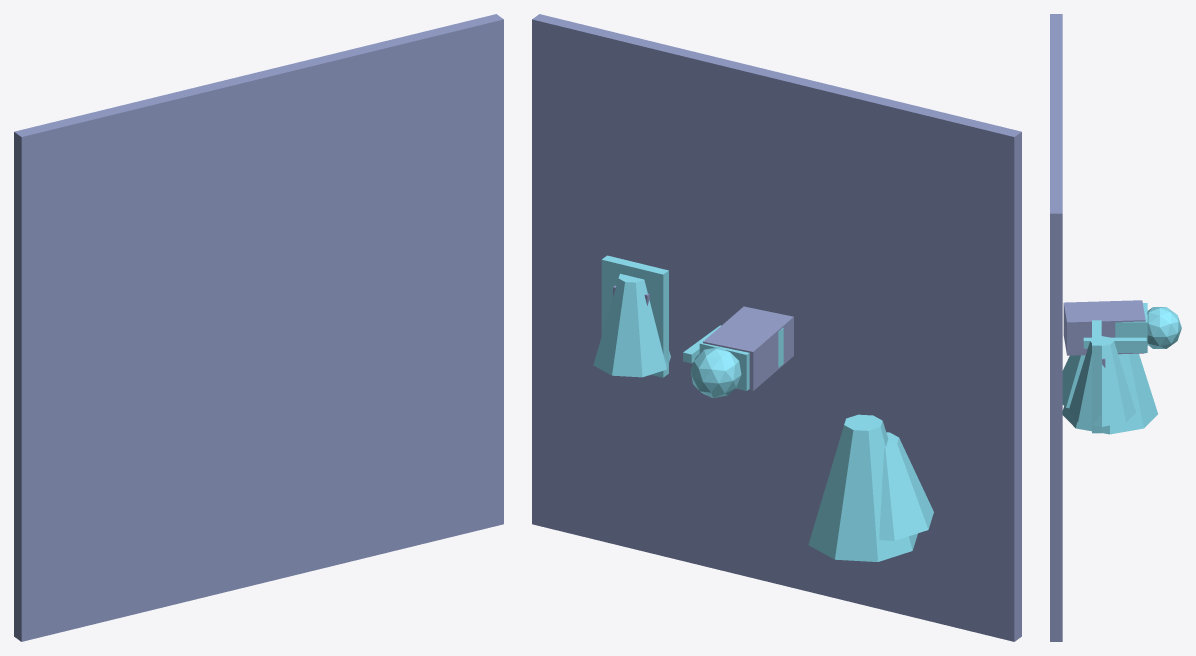
File: shadow-protocol-kit.glb
3 renders of one model, left to right at view 1: azimuth 30°, elevation 25°; view 2: azimuth 150°, elevation 25°; view 3: azimuth 270°, elevation 25°, orthographic. The views are drawn at different scales.
Visible parts, largest first — view 1: ENVIRONMENT_GROUND; view 2: ENVIRONMENT_GROUND, PROFILE_ENVIRONMENT_DETAIL, OBSTACLE, PLAYER_BODY, ENVIRONMENT_LANDMARK, PROFILE_OBSTACLE_DETAIL, PLAYER_HEAD, PROFILE_PLAYER_DETAIL; view 3: ENVIRONMENT_GROUND, OBSTACLE, PLAYER_BODY, PROFILE_ENVIRONMENT_DETAIL, PLAYER_HEAD, PROFILE_OBSTACLE_DETAIL, PROFILE_PLAYER_DETAIL, ENVIRONMENT_LANDMARK, PLAYER_TOOL.
Boxes of the visible parts, box(x1,y1,x2,y2) form: ENVIRONMENT_GROUND: box(14, 14, 503, 641); ENVIRONMENT_GROUND: box(532, 14, 1021, 641); PROFILE_ENVIRONMENT_DETAIL: box(808, 414, 917, 561); OBSTACLE: box(593, 273, 670, 377); PLAYER_BODY: box(703, 306, 793, 390); ENVIRONMENT_LANDMARK: box(879, 432, 933, 540); PROFILE_OBSTACLE_DETAIL: box(601, 255, 668, 377); PLAYER_HEAD: box(690, 347, 741, 398); PROFILE_PLAYER_DETAIL: box(699, 328, 783, 390); ENVIRONMENT_GROUND: box(1050, 14, 1062, 641); OBSTACLE: box(1068, 336, 1135, 426); PLAYER_BODY: box(1063, 300, 1145, 355); PROFILE_ENVIRONMENT_DETAIL: box(1062, 353, 1157, 434); PLAYER_HEAD: box(1147, 307, 1181, 348); PROFILE_OBSTACLE_DETAIL: box(1092, 320, 1101, 433); PROFILE_PLAYER_DETAIL: box(1115, 303, 1147, 352); ENVIRONMENT_LANDMARK: box(1062, 355, 1085, 408); PLAYER_TOOL: box(1083, 337, 1146, 348).
Size of what is drawn, in the model's own units: 9 by 9 by 2.51.
